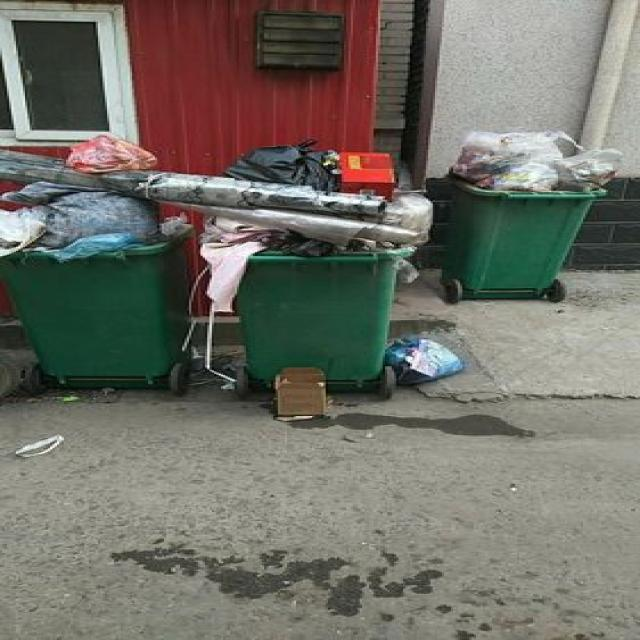garbage: (382, 332, 473, 387), (262, 367, 339, 420)
overflow: (200, 141, 430, 379), (0, 132, 187, 390), (442, 130, 617, 298)
